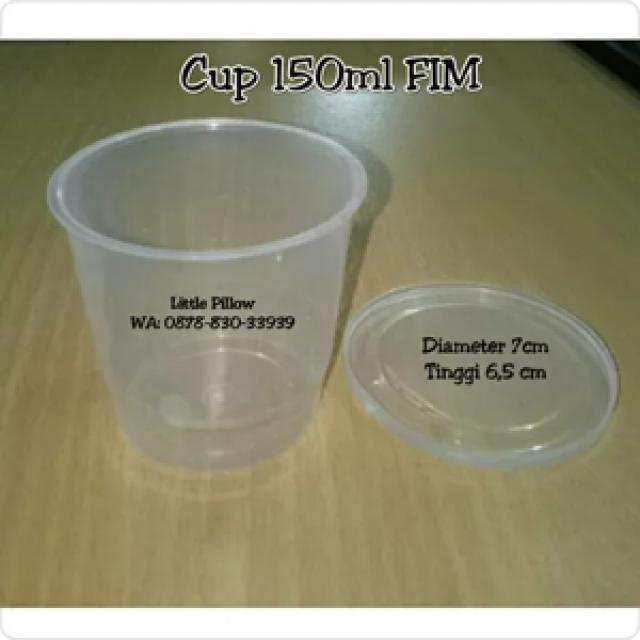plastic cup: (41, 111, 376, 476)
